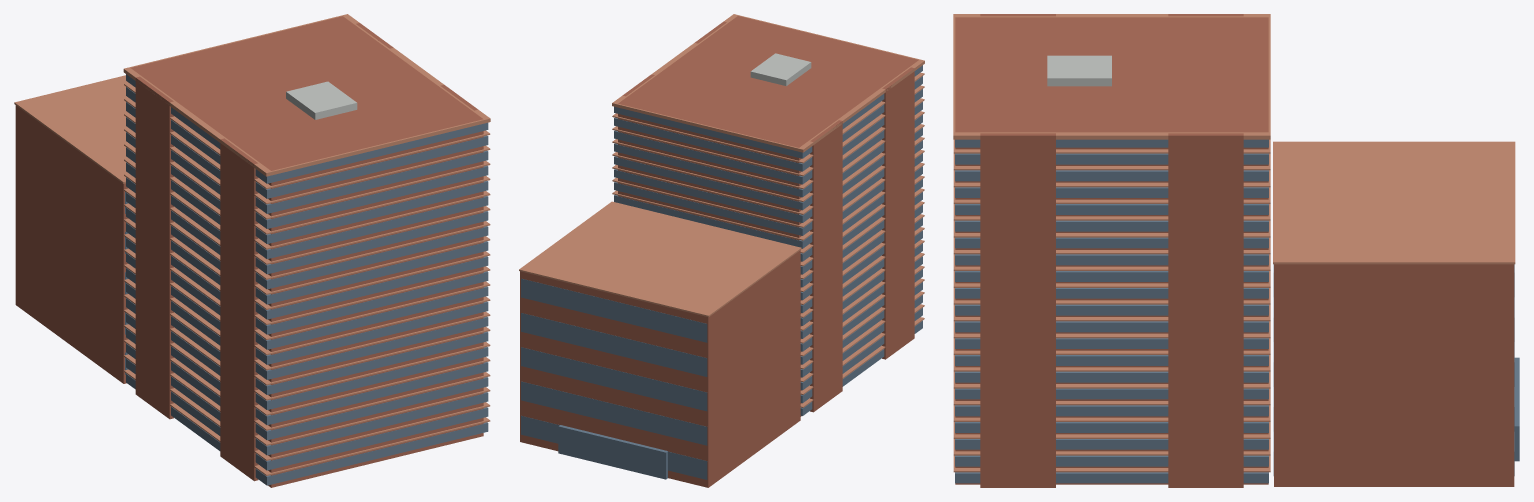
Rendered from hospital.far.glb.
3 renders of one model, left to right at view 1: azimuth 30°, elevation 25°; view 2: azimuth 150°, elevation 25°; view 3: azimuth 270°, elevation 25°, orthographic. The views are drawn at different scales.
Parts seen in each view (by area): view 1: wall, glass, trim, roof; view 2: wall, glass, trim, roof; view 3: wall, trim, glass, roof.
Part boxes in pixels (x1=…): wall: x1=15, y1=16, x2=483, y2=487; glass: x1=125, y1=74, x2=488, y2=485; trim: x1=14, y1=14, x2=490, y2=475; roof: x1=286, y1=81, x2=357, y2=119; wall: x1=520, y1=16, x2=918, y2=487; glass: x1=521, y1=65, x2=922, y2=479; trim: x1=519, y1=14, x2=924, y2=407; roof: x1=750, y1=53, x2=811, y2=86; wall: x1=955, y1=14, x2=1514, y2=487; trim: x1=953, y1=14, x2=1515, y2=472; glass: x1=955, y1=139, x2=1519, y2=483; roof: x1=1047, y1=55, x2=1111, y2=86.
Bounding box in the file's own units: 53.3 × 73.6 × 105.
